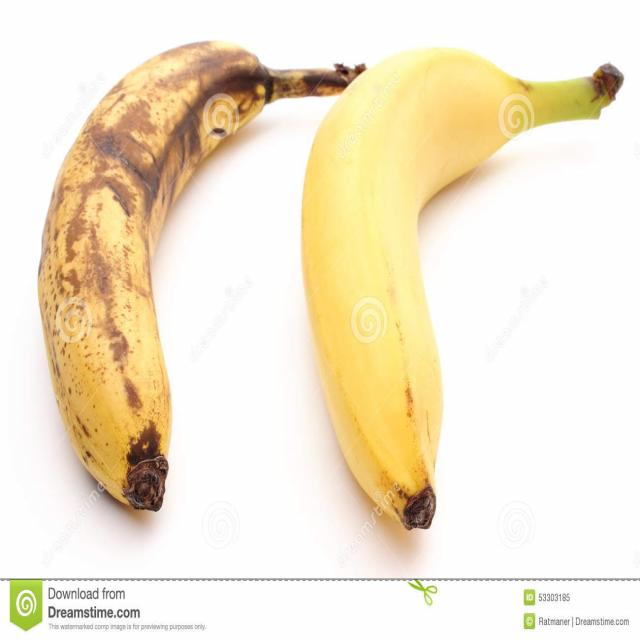Banana: (307, 48, 623, 534), (38, 31, 271, 516)
